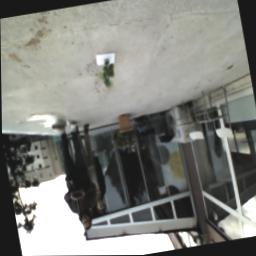herb: (97, 59, 119, 91)
